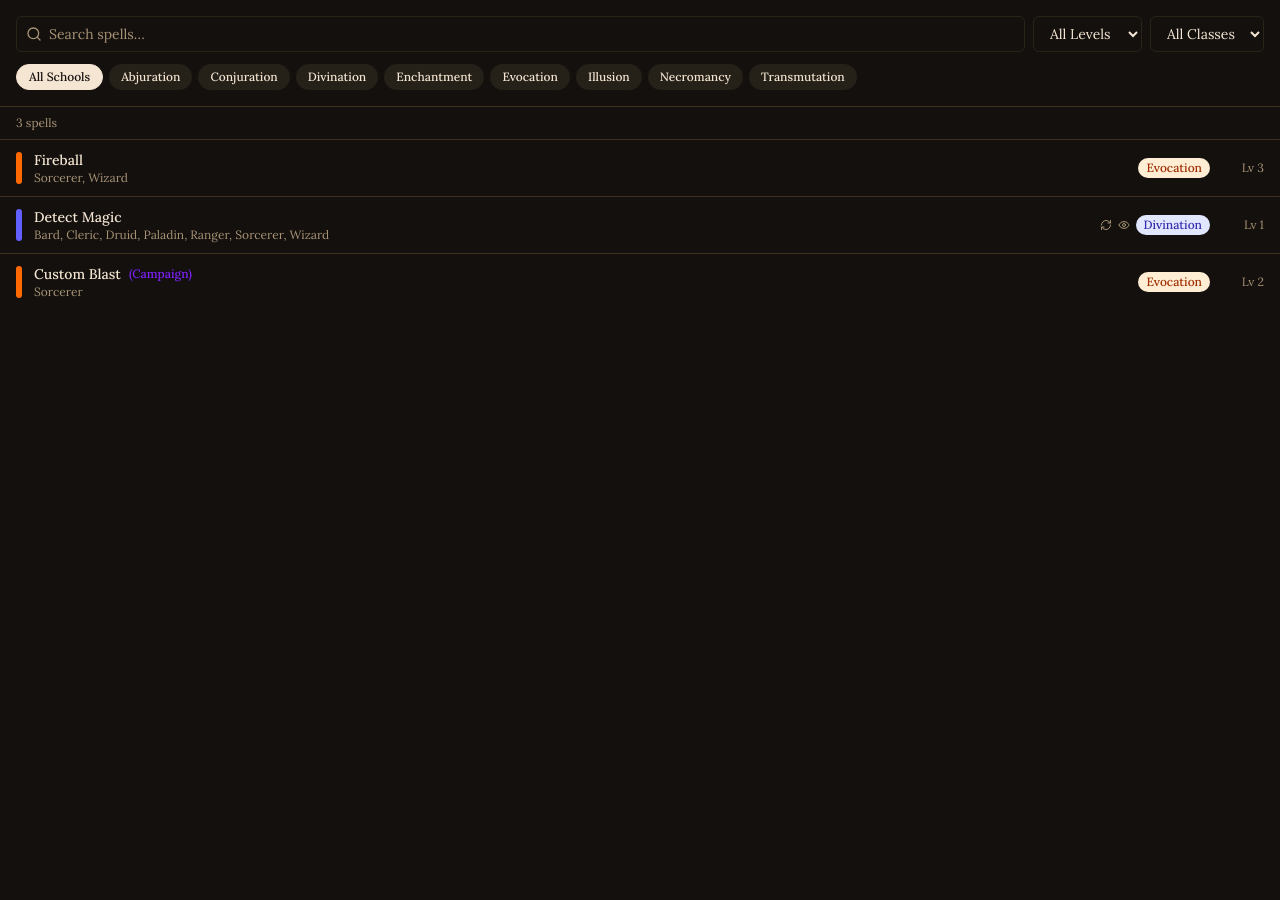
it: SpellsTab › opens detail dialog when spell row is clicked
The width and height of the screenshot is (1280, 900).
Check: the text "Fireball" is shown, box [34,150,83,170]
What coordinates should you click on to do the following:
click the button with test id "spell-row-1"
I would click on:
 (58, 160)
Its box is [0,140,1279,197].
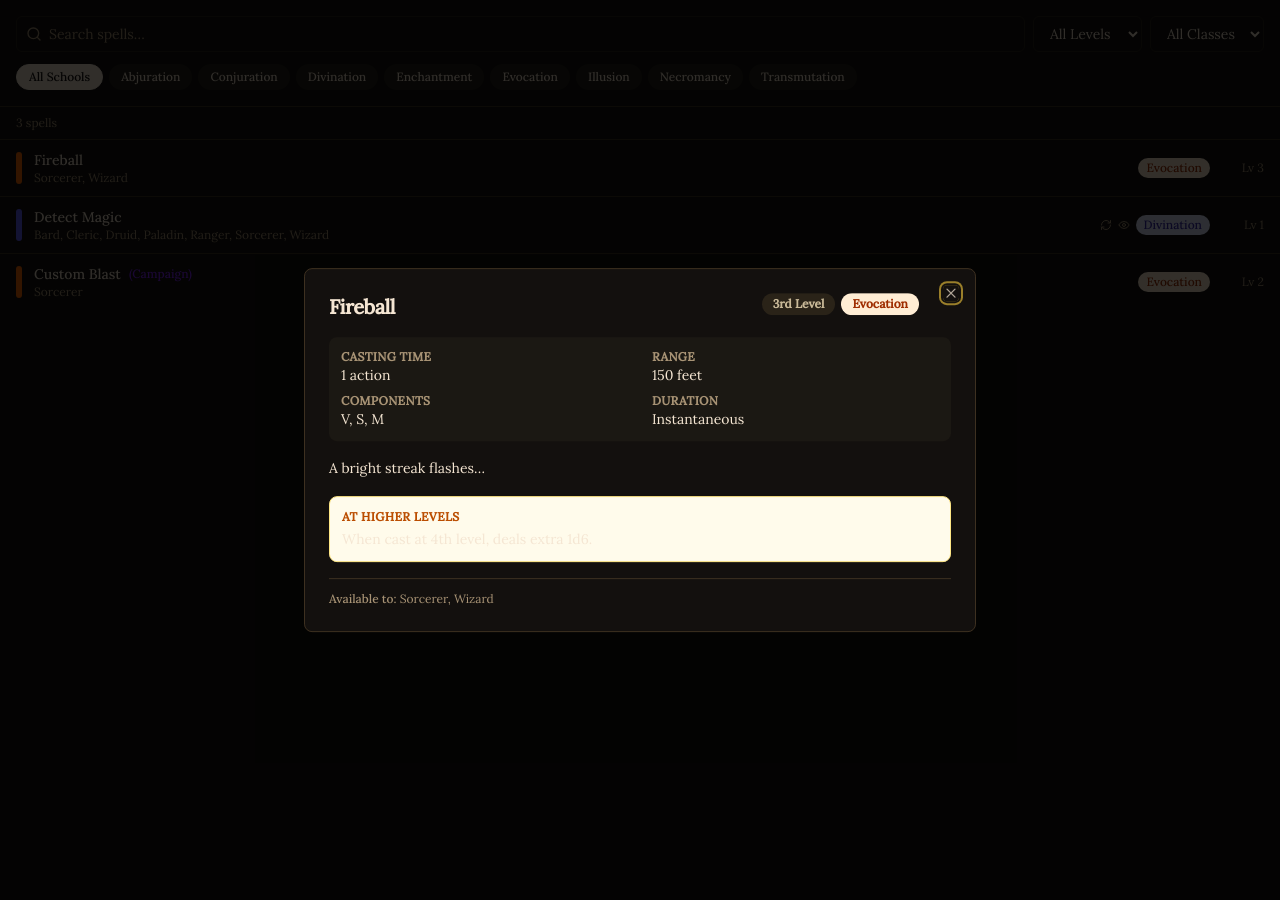
Check: the text "A bright streak flashes…" is shown, box [329,459,485,477]
